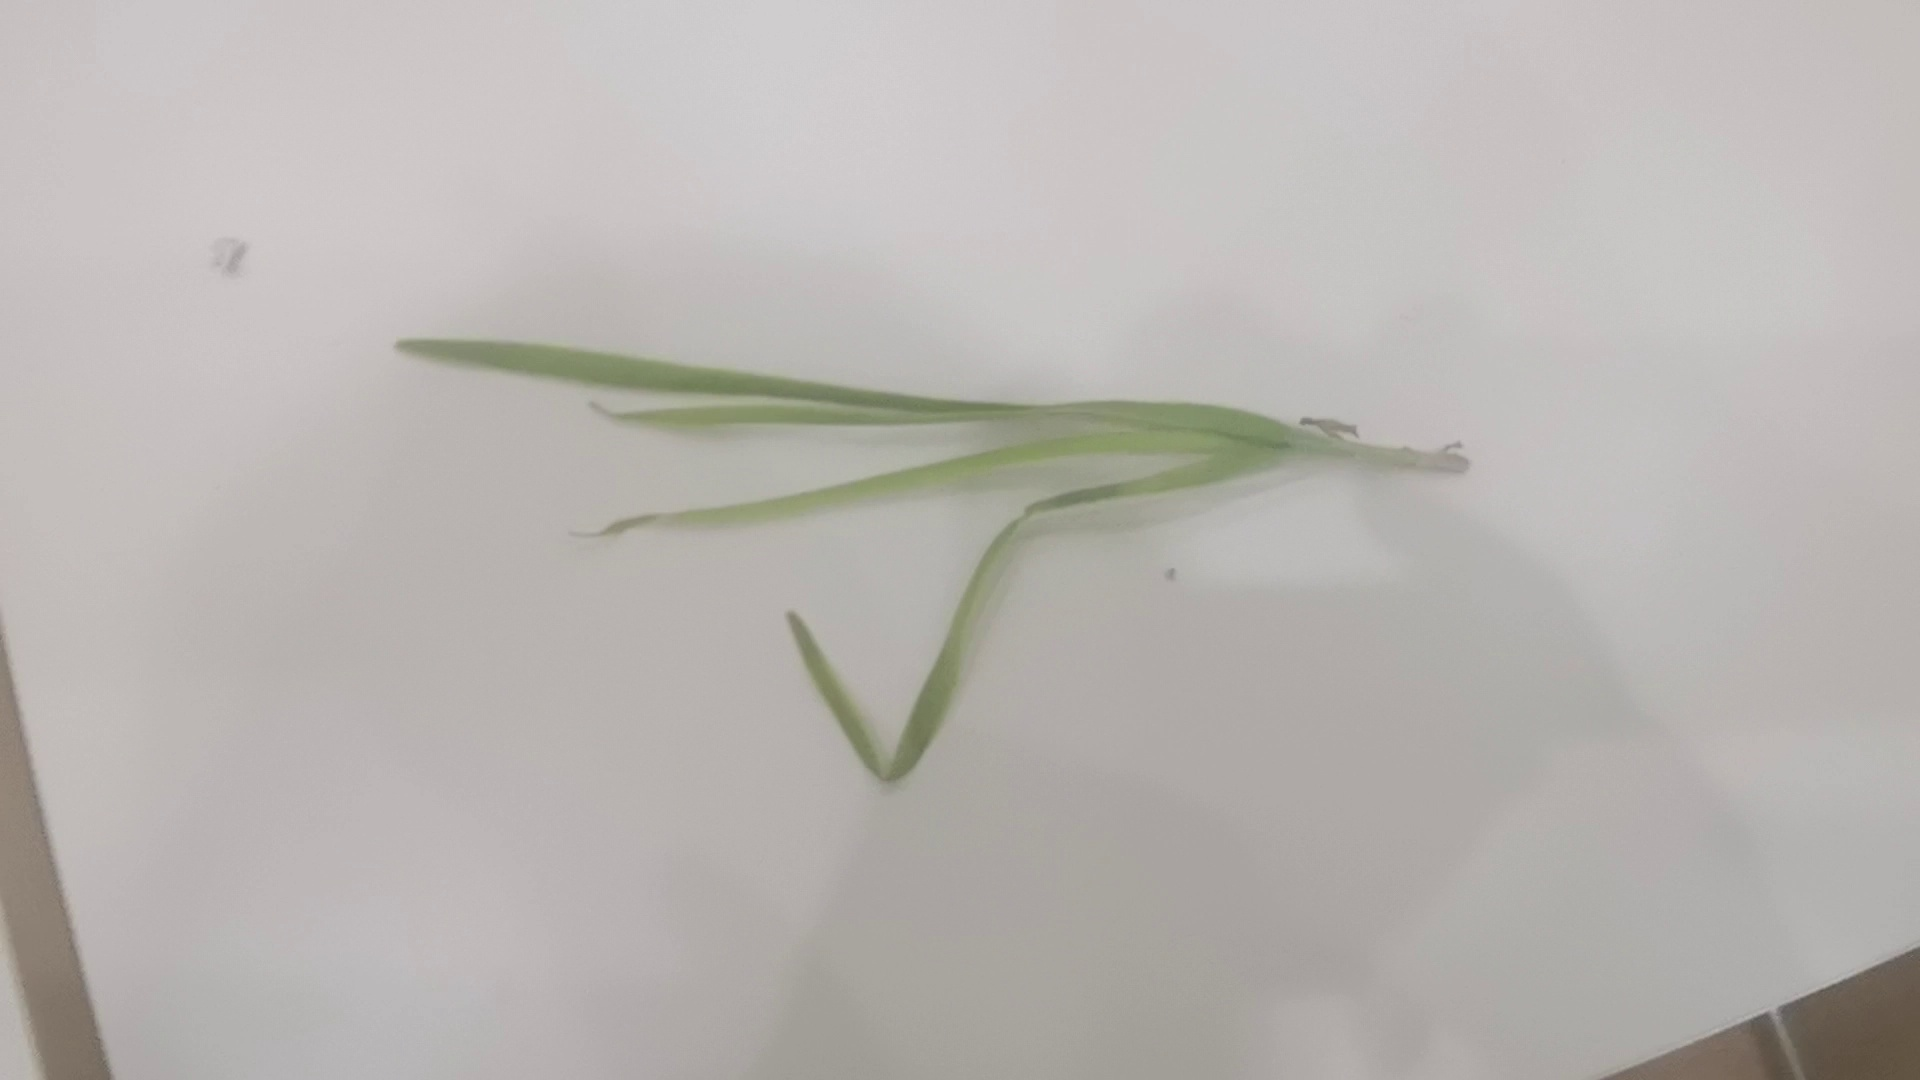chives: (382, 331, 1470, 783)
